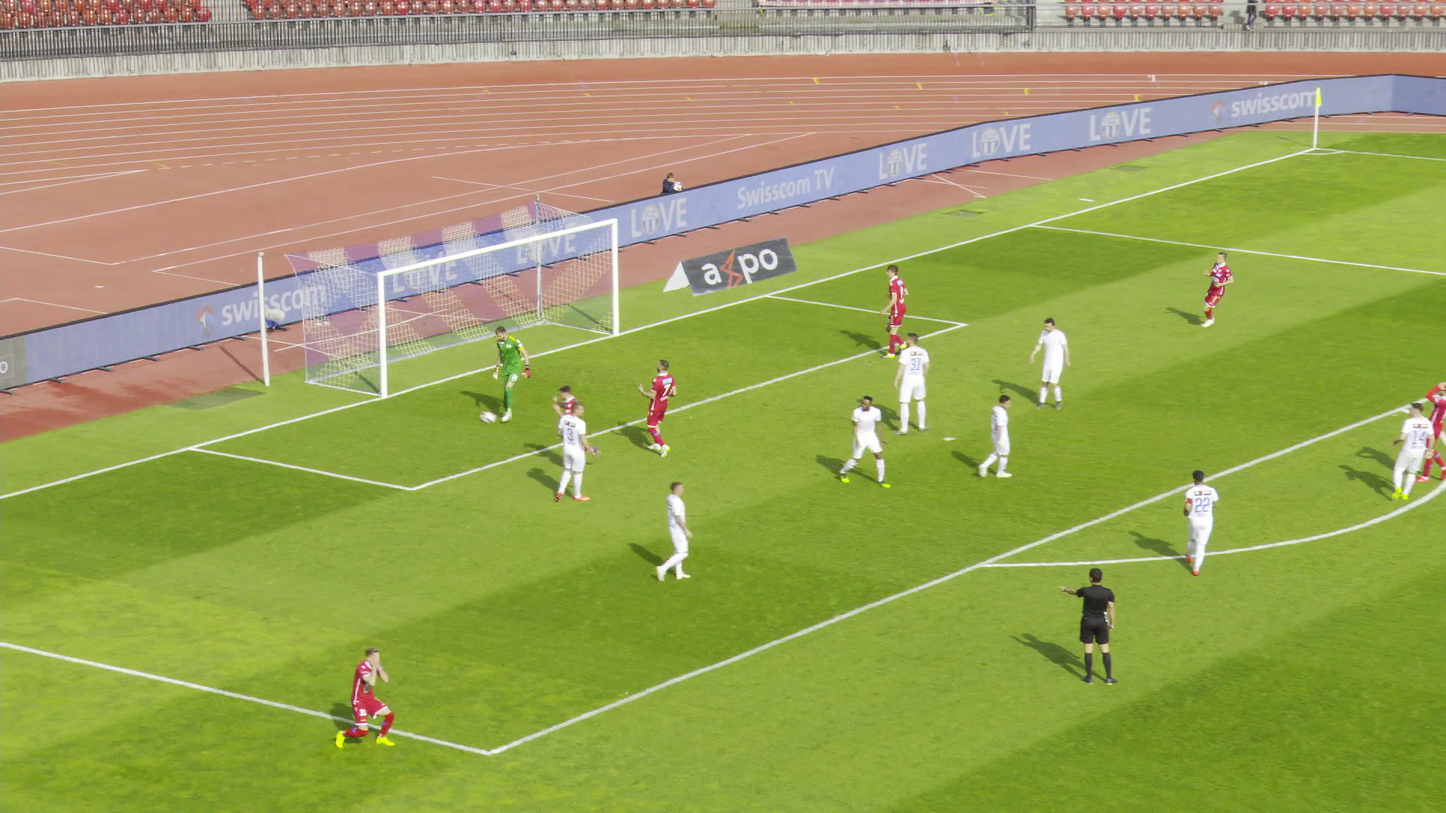ball: (480, 411, 495, 423)
player: (331, 646, 394, 748), (837, 393, 886, 485), (1390, 403, 1435, 500), (1178, 468, 1216, 576), (1025, 318, 1069, 410), (555, 402, 596, 500), (651, 478, 690, 580), (636, 357, 676, 456), (888, 331, 926, 435), (489, 325, 529, 421), (1190, 250, 1235, 329), (556, 381, 596, 465), (973, 392, 1011, 477), (876, 263, 908, 358), (1417, 378, 1445, 482)
referee: (1053, 565, 1113, 686)
